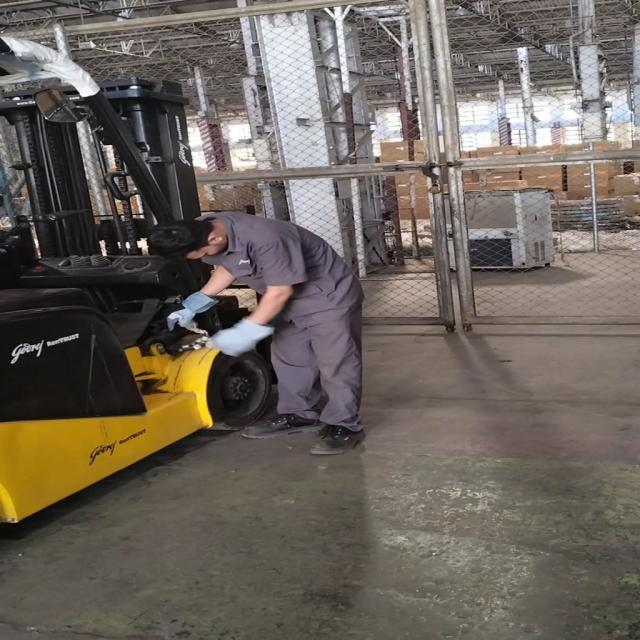Gloves-Detection: (156, 285, 213, 331), (212, 318, 279, 348)
